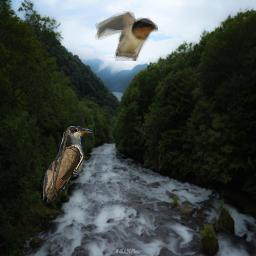Cuckoo: (43, 126, 104, 203)
Swallow: (95, 11, 158, 61)
